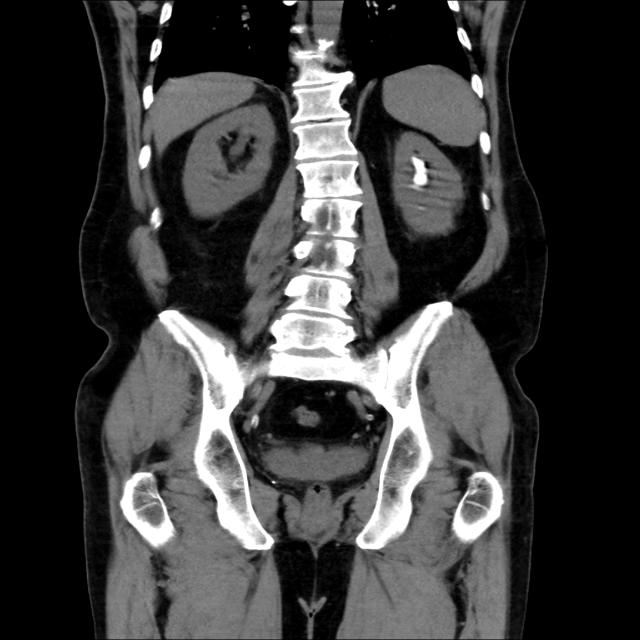kidneystone: (411, 156, 427, 185)
